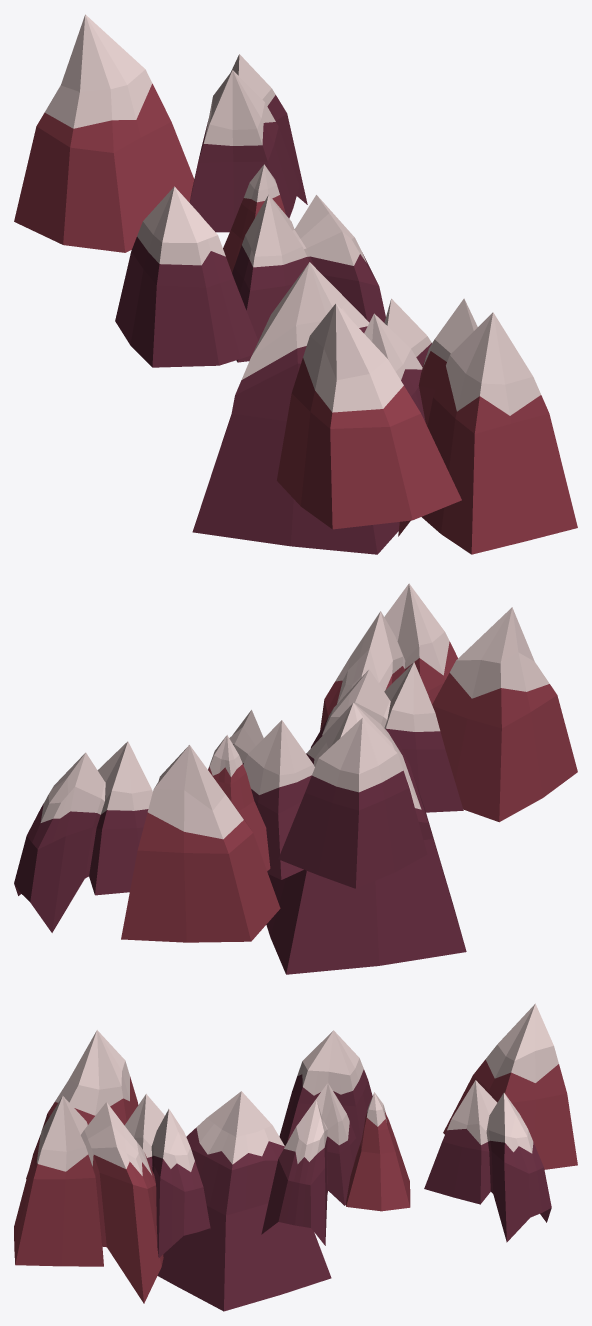
The model's file is Montanhas.gltf.
3 renders of one model, top to bottom at view 1: azimuth 30°, elevation 25°; view 2: azimuth 150°, elevation 25°; view 3: azimuth 270°, elevation 25°, orthographic. The views are drawn at different scales.
Parts seen in each view (by area): view 1: Montanha.009, Montanha.006, Montanha.010, Montanha.005, Montanha.003, Montanha.007, Montanha.002, Montanha.011, Montanha.012; view 2: Montanha.006, Montanha.005, Montanha.010, Montanha.003, Montanha.007, Montanha.011, Montanha.009, Montanha.002, Montanha.012; view 3: Montanha.009, Montanha.005, Montanha.007, Montanha.006, Montanha.002, Montanha.011, Montanha.003, Montanha.012, Montanha.010.
Part boxes in pixels (x1=…): Montanha.009: x1=398, y1=298, x2=577, y2=554; Montanha.006: x1=14, y1=14, x2=194, y2=252; Montanha.010: x1=277, y1=303, x2=461, y2=529; Montanha.005: x1=192, y1=262, x2=399, y2=554; Montanha.003: x1=115, y1=186, x2=258, y2=367; Montanha.007: x1=189, y1=54, x2=307, y2=232; Montanha.002: x1=232, y1=194, x2=385, y2=362; Montanha.011: x1=364, y1=298, x2=431, y2=422; Montanha.012: x1=223, y1=164, x2=285, y2=272; Montanha.006: x1=121, y1=745, x2=280, y2=942; Montanha.005: x1=266, y1=702, x2=466, y2=974; Montanha.010: x1=432, y1=607, x2=577, y2=822; Montanha.003: x1=278, y1=718, x2=427, y2=888; Montanha.007: x1=14, y1=741, x2=152, y2=932; Montanha.011: x1=310, y1=662, x2=463, y2=812; Montanha.009: x1=320, y1=583, x2=457, y2=730; Montanha.002: x1=229, y1=710, x2=314, y2=879; Montanha.012: x1=208, y1=735, x2=270, y2=870; Montanha.009: x1=14, y1=1096, x2=163, y2=1303; Montanha.005: x1=157, y1=1091, x2=331, y2=1311; Montanha.007: x1=424, y1=1080, x2=551, y2=1242; Montanha.006: x1=443, y1=1003, x2=577, y2=1169; Montanha.002: x1=261, y1=1083, x2=358, y2=1245; Montanha.011: x1=124, y1=1094, x2=210, y2=1257; Montanha.003: x1=279, y1=1030, x2=372, y2=1146; Montanha.012: x1=346, y1=1092, x2=410, y2=1211; Montanha.010: x1=26, y1=1030, x2=138, y2=1178.
Bounding box in the file's own units: 66.43 × 76 × 148.
